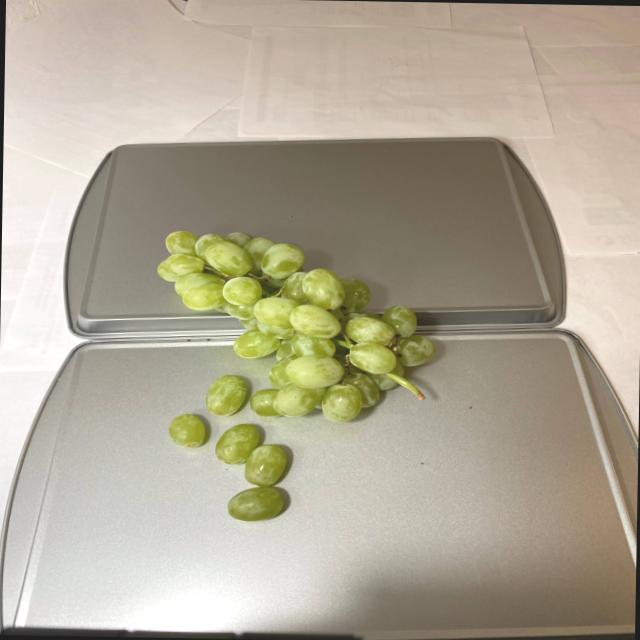grapes: (148, 227, 438, 521)
